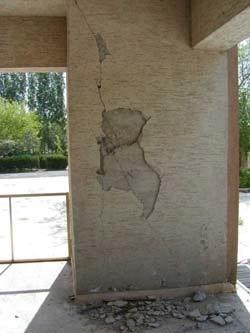spalling: (97, 33, 161, 218)
